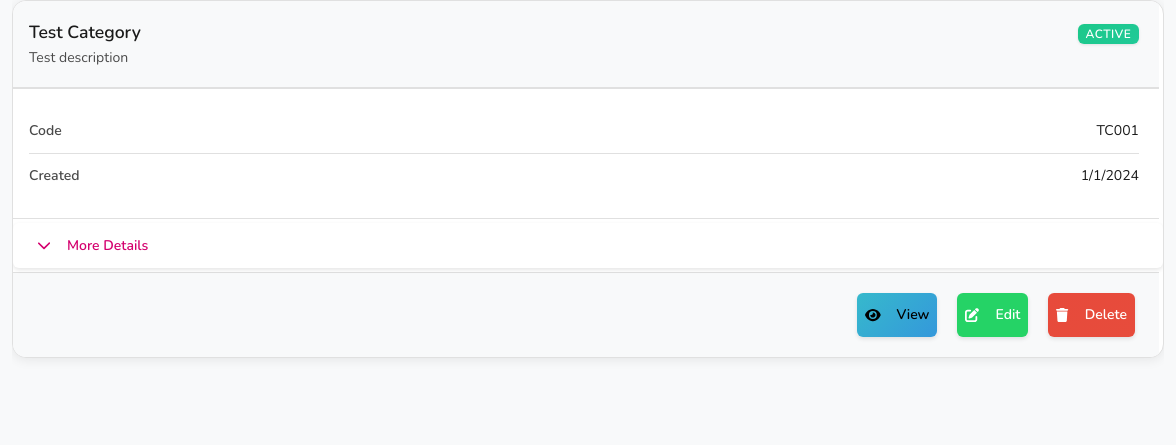
Test case: MobileDataCard › expands and collapses expandable section
The image size is (1176, 445).
// Click to expand
What coordinates should you click on to do the following:
click the button "More Details"
I would click on:
 (108, 245)
Its box is [13,223,1163,268].
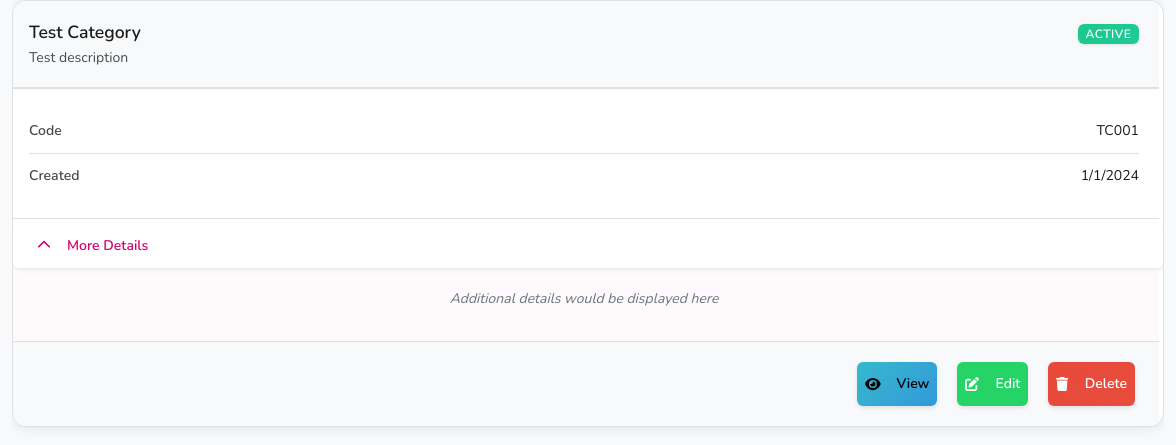
Now the text "Additional details would be displayed here" is shown, box [450,289,718,308]
